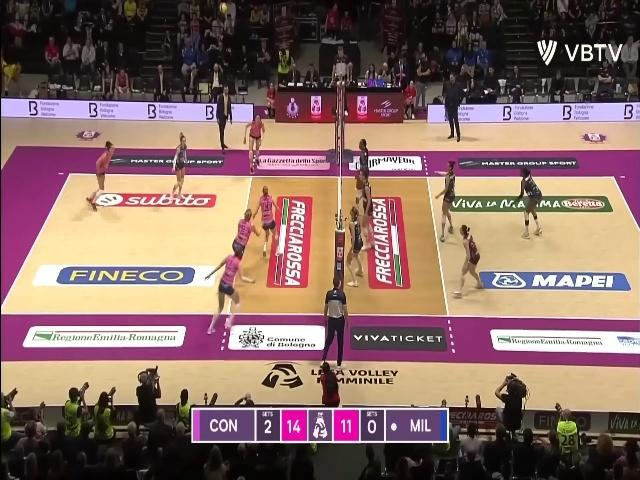volleyball court: (1, 172, 638, 318)
